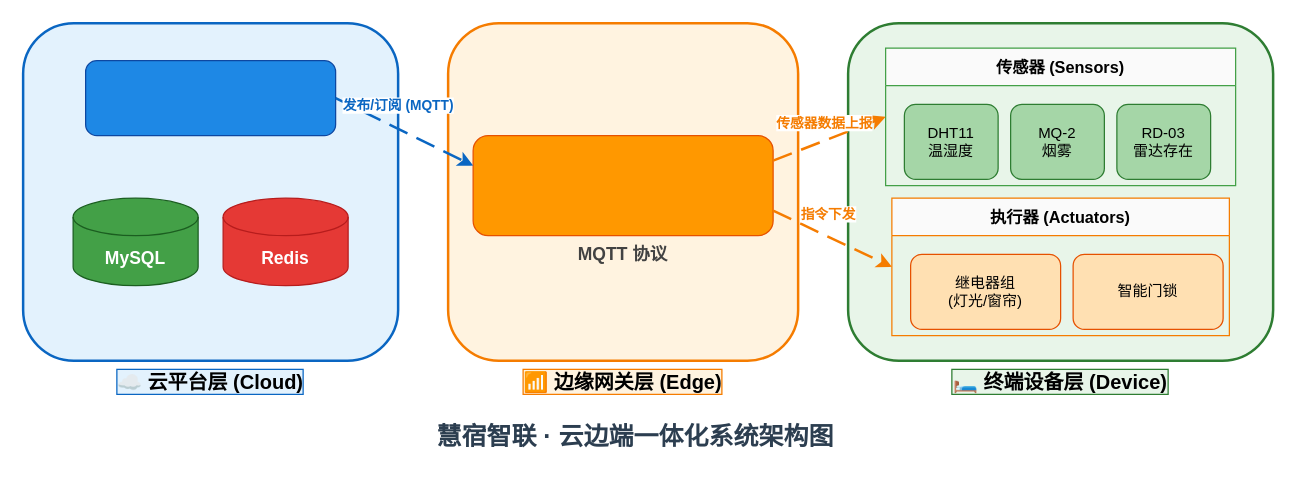
The diagram is 1295 pixels wide and 481 high, and some of its shapes have lost their labels. The shapes that lost their labels are listed below. From the top down, each one's centre as x and y in pixels, then its label:
point (210, 97): Node.js 集群 (MQTT Broker / API)
point (622, 185): ESP32-S3 网关 (WiFi / MQTT Client)
